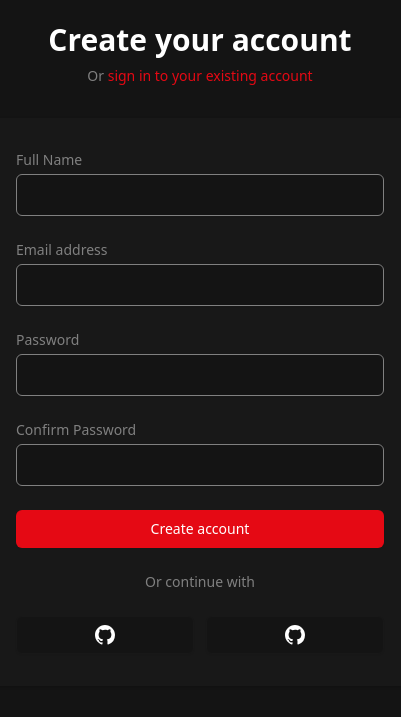
Scenario: Register page › shows error when passwords do not match
The image size is (401, 717).
Type "Alice" into the field labelled "Full Name" at (200, 195), box 16,174 -> 384,216
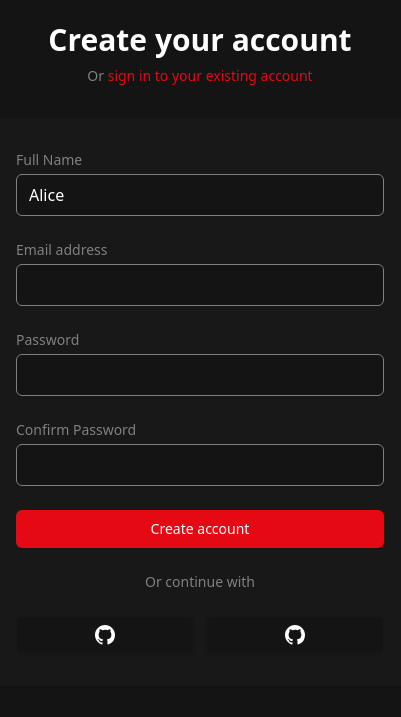
Type "alice@example.com" into the field labelled "Email address" at (200, 285), box 16,264 -> 384,306
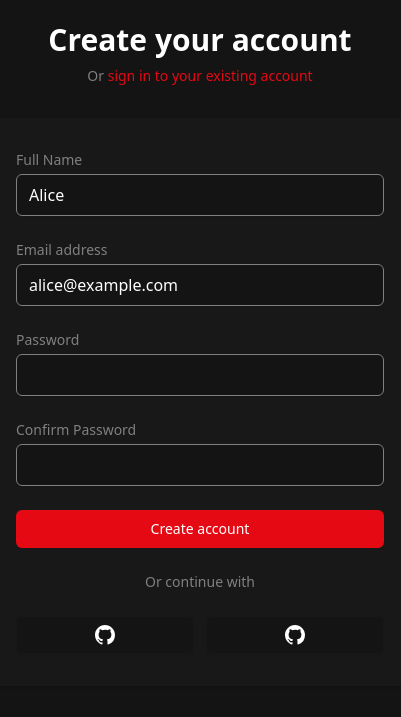
Type "secret123" into the password field labelled "Password" at (200, 375), box 16,354 -> 384,396
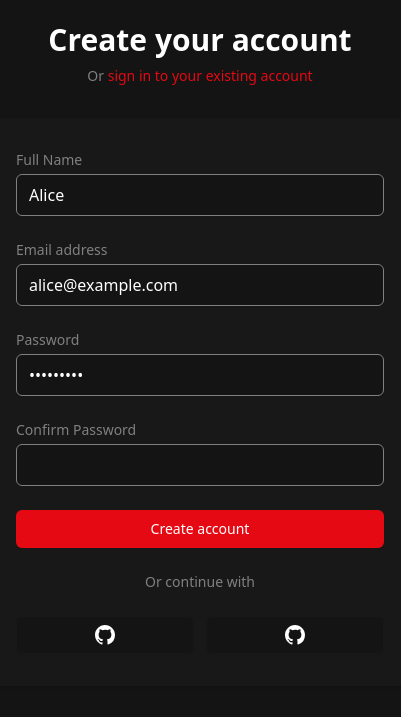
Type "different456" into the password field labelled "Confirm Password" at (200, 465), box 16,444 -> 384,486
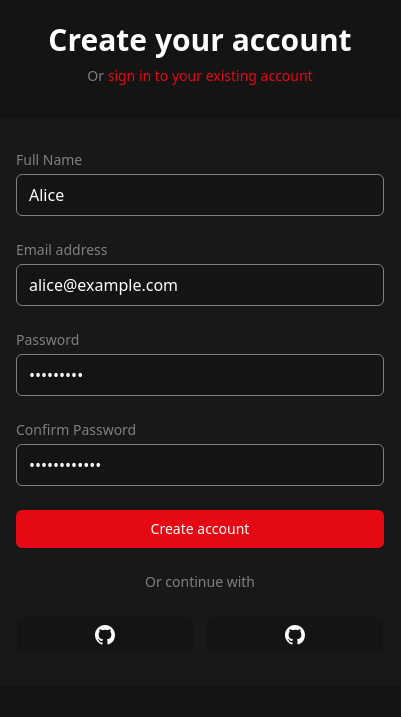
Submit the form "Create account", box 16,150 -> 384,548
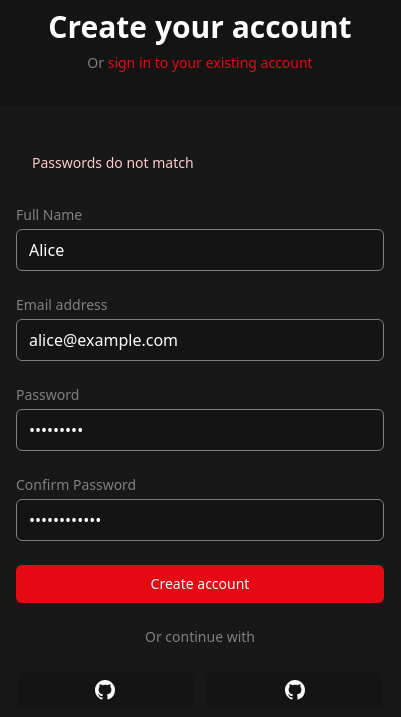
Check: the text "Passwords do not match" is shown, box 32,153 -> 194,172
